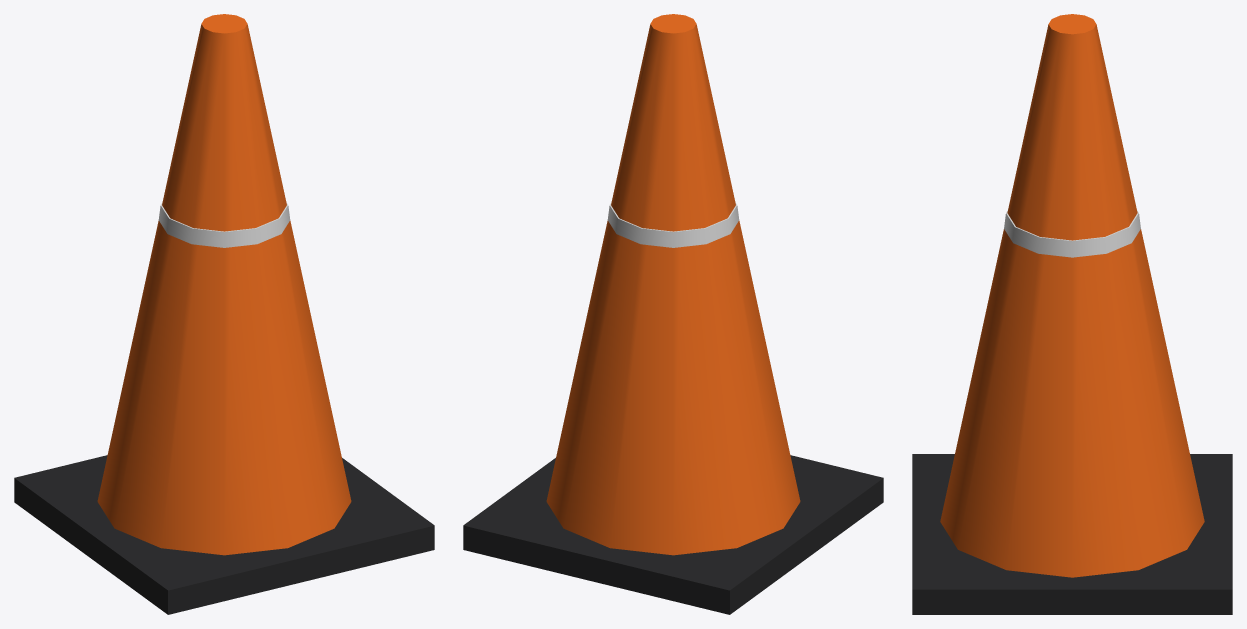
3 renders of one model, left to right at view 1: azimuth 30°, elevation 25°; view 2: azimuth 150°, elevation 25°; view 3: azimuth 270°, elevation 25°, orthographic. The views are drawn at different scales.
Parts seen in each view (by area): view 1: Body_LOD0; view 2: Body_LOD0; view 3: Body_LOD0.
Part boxes in pixels (x1,y1,x2,y2): Body_LOD0: (14,14,434,614); Body_LOD0: (463,14,883,614); Body_LOD0: (912,14,1232,614).
Bounding box in the file's own units: 0.4 × 0.72 × 0.4.
